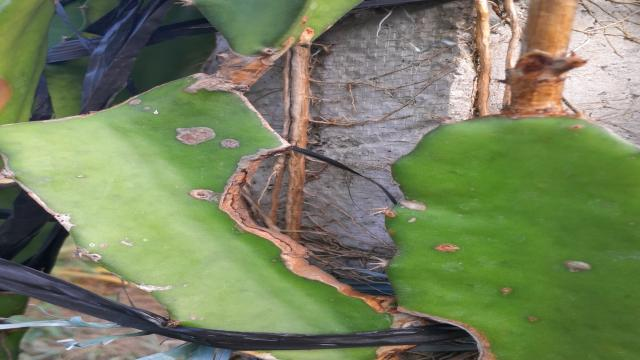stemcanker: (174, 121, 223, 149), (559, 255, 596, 277), (427, 239, 464, 257), (214, 133, 244, 155), (186, 184, 217, 205), (494, 281, 518, 301)
